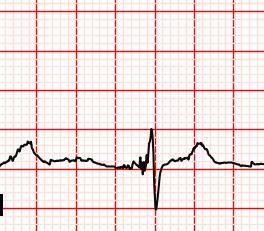Poor R Progression: (141, 126, 160, 167)
ST Depression: (142, 158, 171, 214)
